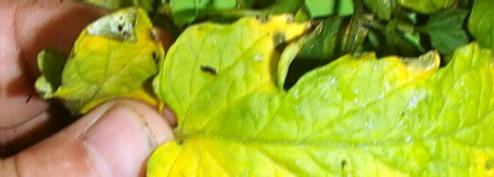Tomato Early blight leaf: (148, 1, 494, 177)
